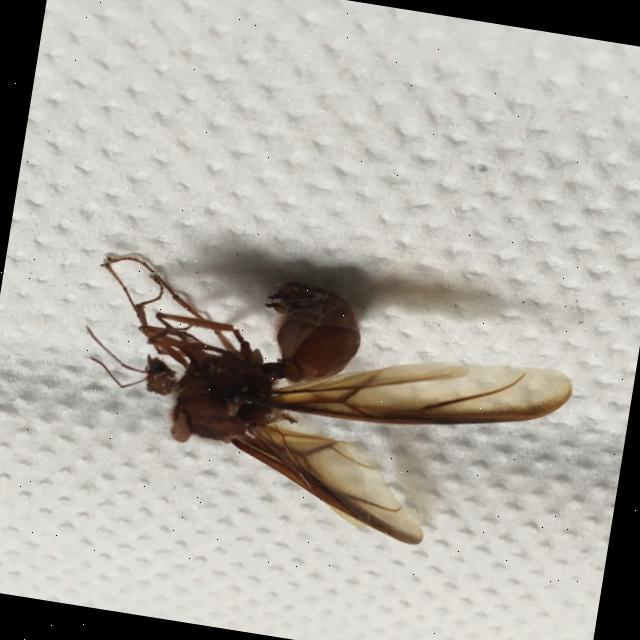Dead-Male-Alate: (61, 250, 583, 566)
